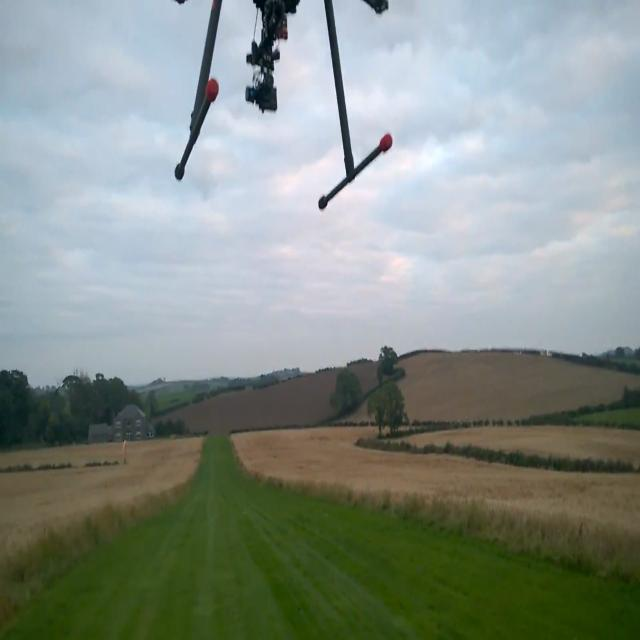drone: (146, 0, 403, 199)
